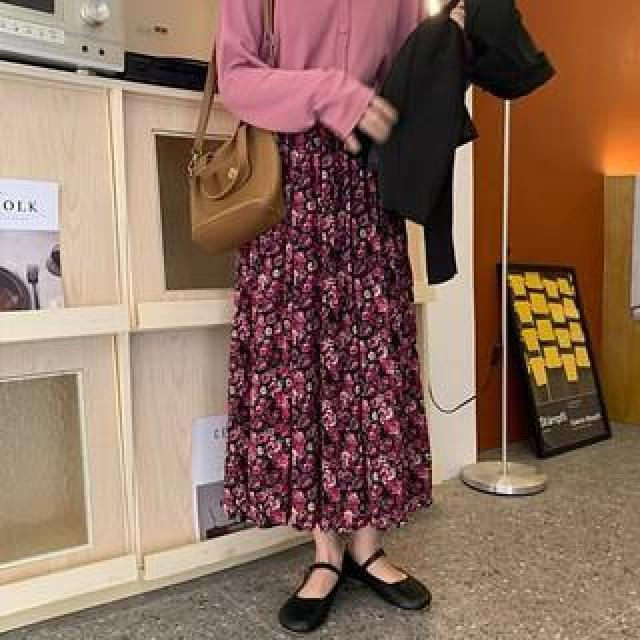skirt: (228, 119, 434, 533)
